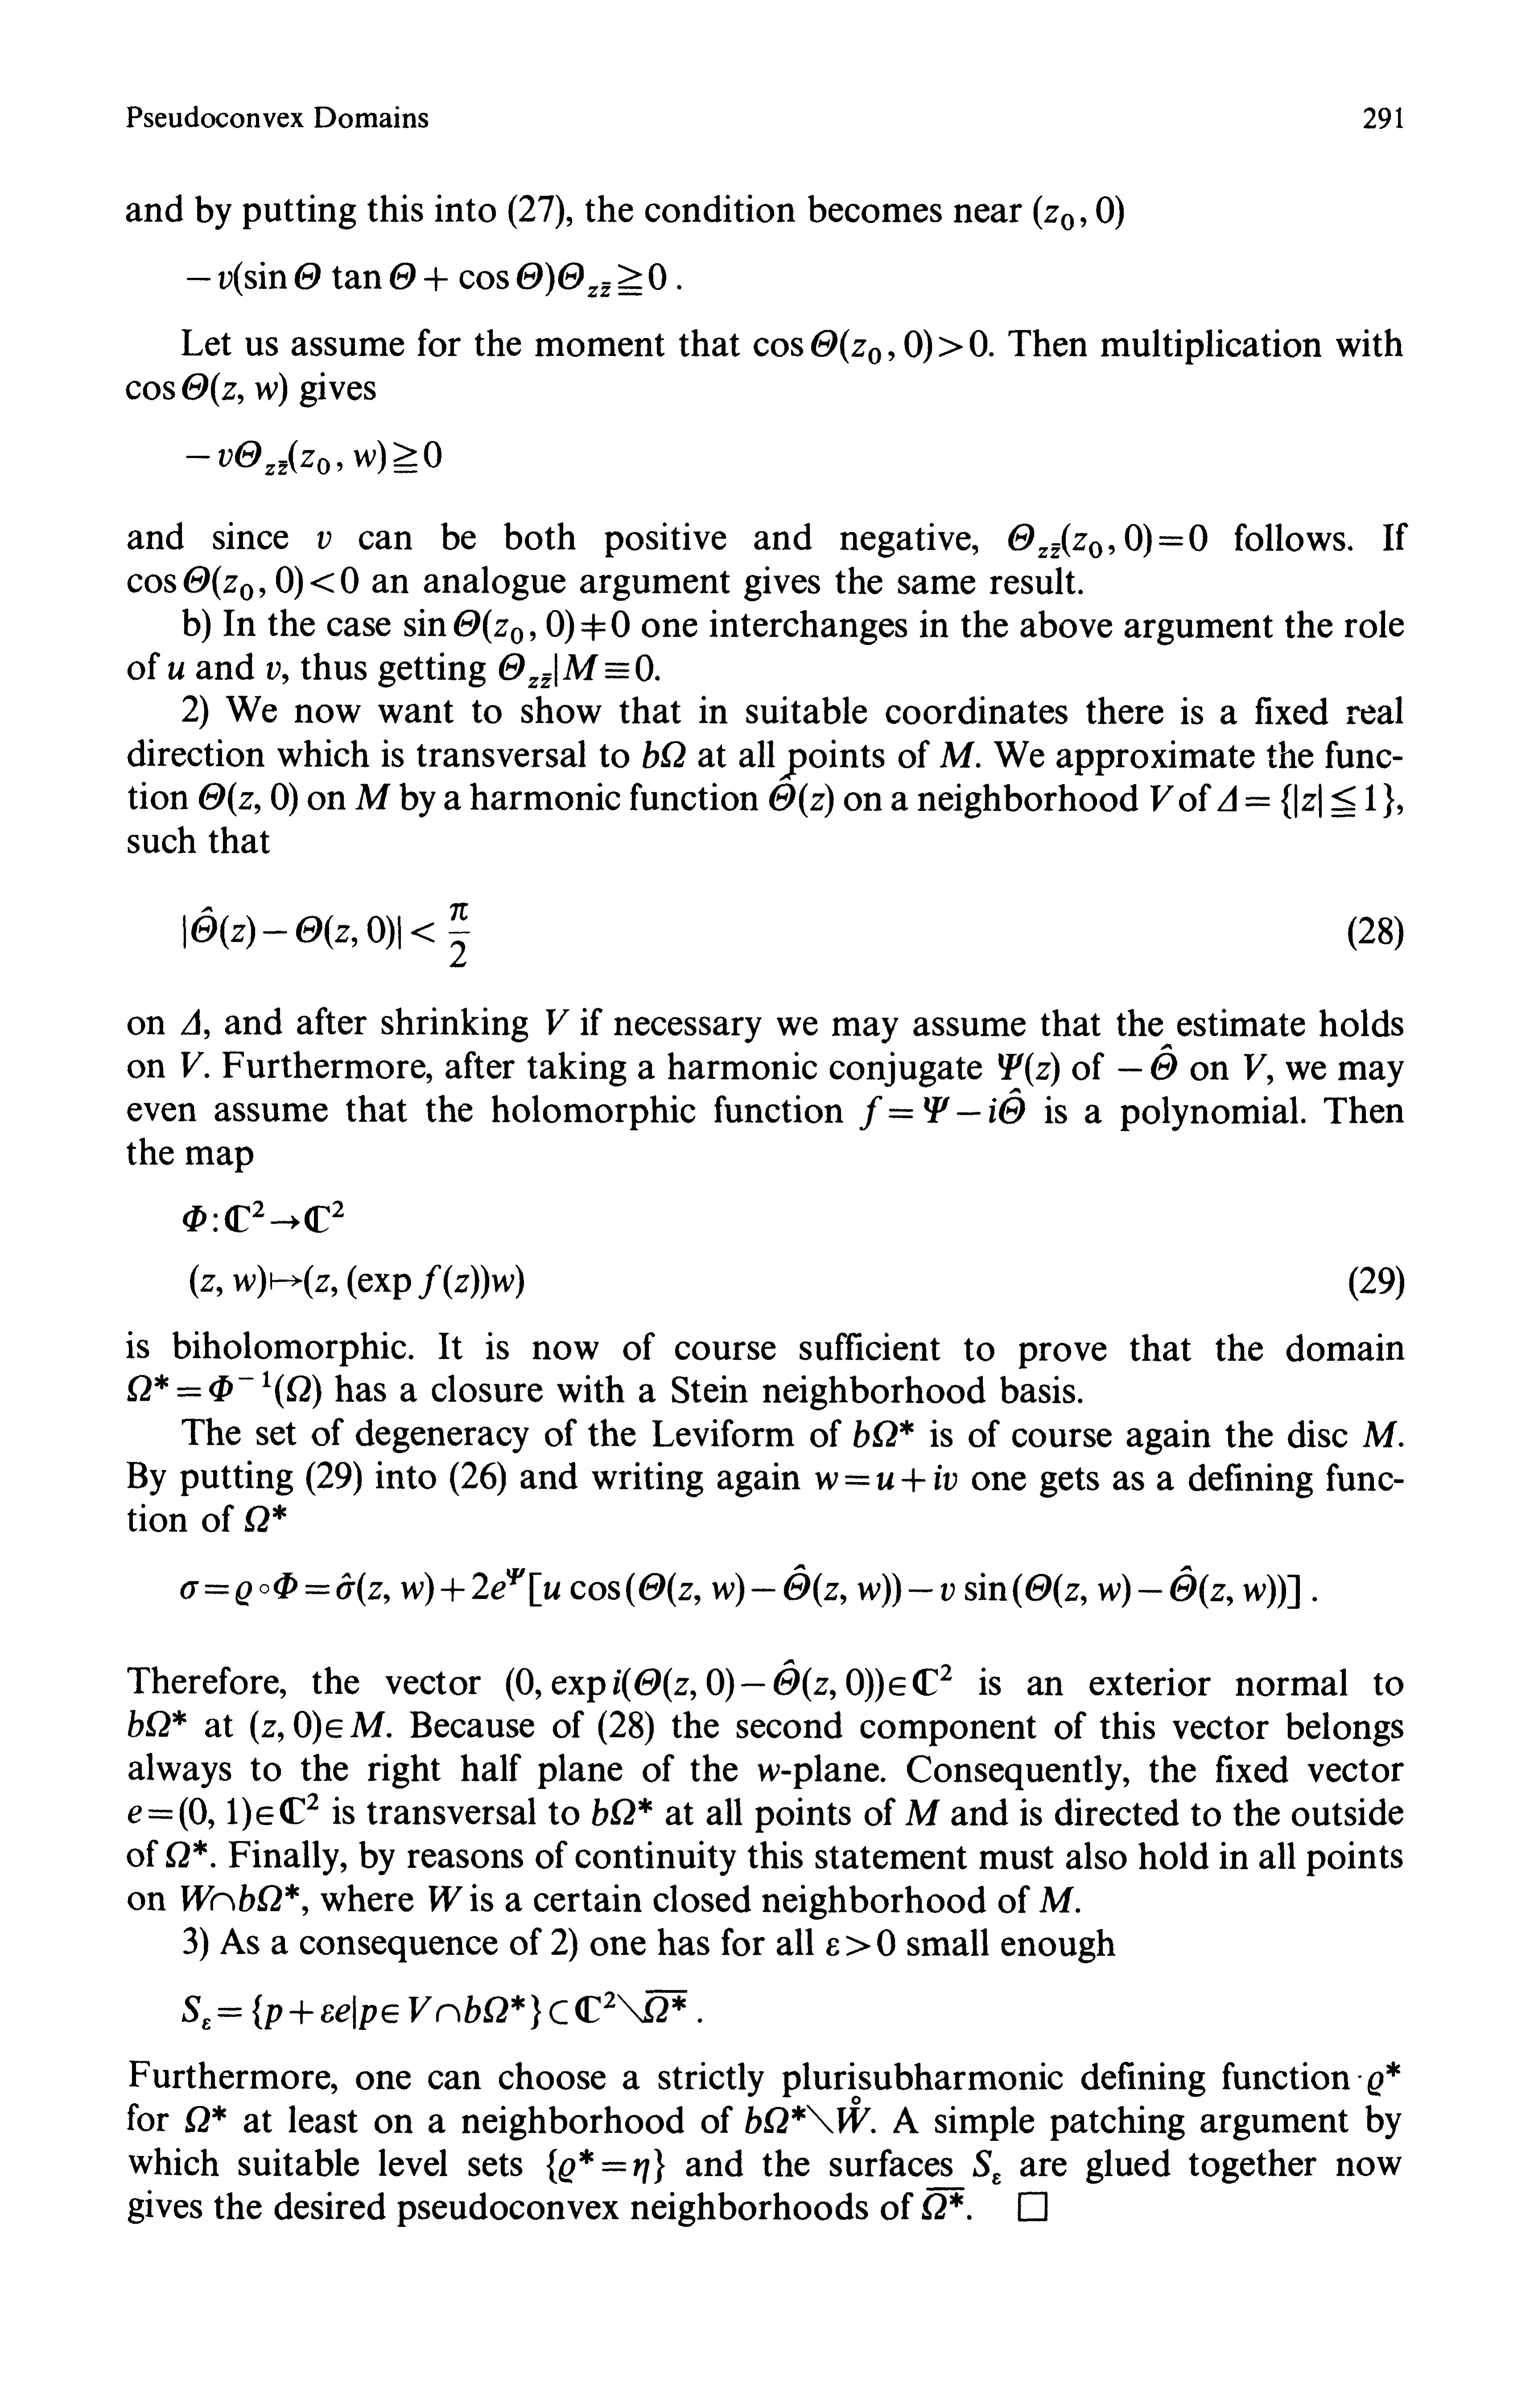maths: (181, 1564, 1299, 1608), (183, 1990, 686, 2031), (505, 1659, 951, 1702), (191, 902, 469, 967), (186, 262, 665, 297), (860, 1060, 1025, 1130), (190, 1265, 523, 1299), (186, 441, 441, 476), (744, 2071, 876, 2132), (128, 565, 358, 600), (404, 609, 628, 644), (753, 330, 986, 363), (126, 1371, 321, 1409), (128, 1794, 318, 1831), (1009, 523, 1208, 558), (1218, 783, 1394, 818), (498, 653, 658, 688), (126, 372, 286, 405), (183, 1200, 344, 1232), (249, 1711, 391, 1745), (769, 749, 834, 818), (181, 1883, 307, 1917), (546, 2148, 663, 2183), (816, 1466, 957, 1492), (198, 781, 297, 816), (1034, 195, 1123, 230), (999, 1051, 1058, 1086), (1118, 1044, 1178, 1079), (827, 1929, 895, 1955), (853, 1420, 913, 1448), (591, 1797, 651, 1825), (921, 2187, 971, 2220), (128, 1709, 186, 1738), (165, 1839, 214, 1867), (642, 741, 685, 769), (244, 1504, 286, 1532), (184, 2104, 226, 2132), (1367, 2062, 1401, 2096), (1039, 1887, 1079, 1913), (972, 2150, 1000, 2183), (939, 741, 974, 767), (355, 783, 390, 809), (1244, 1053, 1272, 1085), (906, 1799, 939, 1825), (428, 1885, 462, 1911), (1362, 1422, 1397, 1446), (181, 1051, 209, 1078), (1151, 785, 1174, 811), (758, 1764, 792, 1781), (546, 1009, 569, 1034), (181, 1009, 200, 1034), (267, 662, 288, 683), (168, 662, 184, 679), (318, 532, 330, 549)
